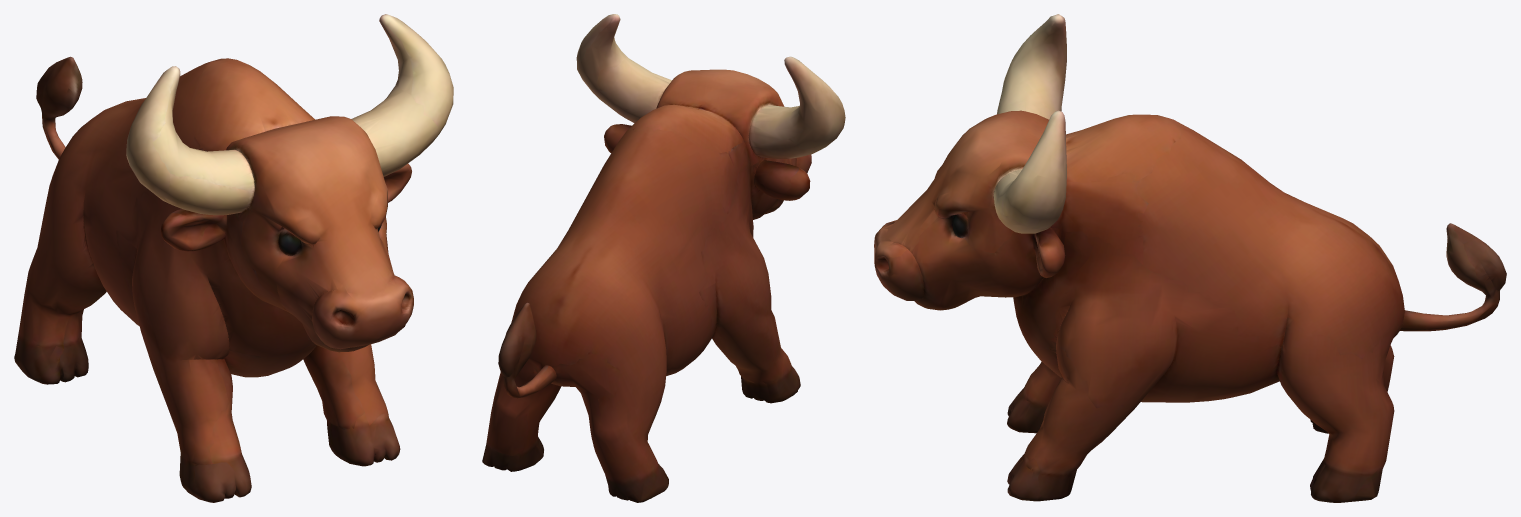
The model's file is bull_pbr.glb.
3 renders of one model, left to right at view 1: azimuth 30°, elevation 25°; view 2: azimuth 150°, elevation 25°; view 3: azimuth 270°, elevation 25°, orthographic. The views are drawn at different scales.
Parts seen in each view (by area): view 1: model; view 2: model; view 3: model.
Boxes of the visible parts, box(x1,y1,x2,y2) form: model: box(14, 14, 453, 502); model: box(482, 14, 845, 502); model: box(874, 14, 1506, 502).
Bounding box in the file's own units: 0.9517 × 1.22 × 1.77.
1 material, 1 textured.
